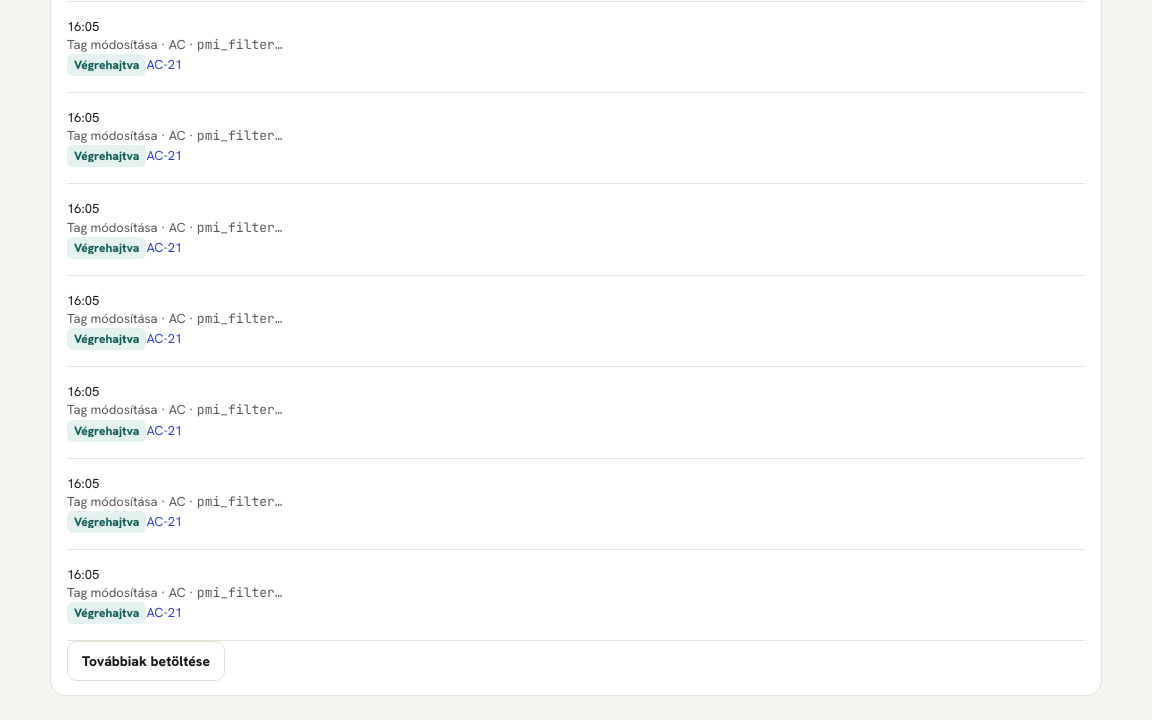
filters and paginates the audit by prefix without fetching involvements
The image size is (1152, 720).
(page scrolled)
What coordinates should you click on to do the following:
click the button "Továbbiak betöltése"
I would click on:
 (146, 661)
Its box is [67, 641, 225, 681].
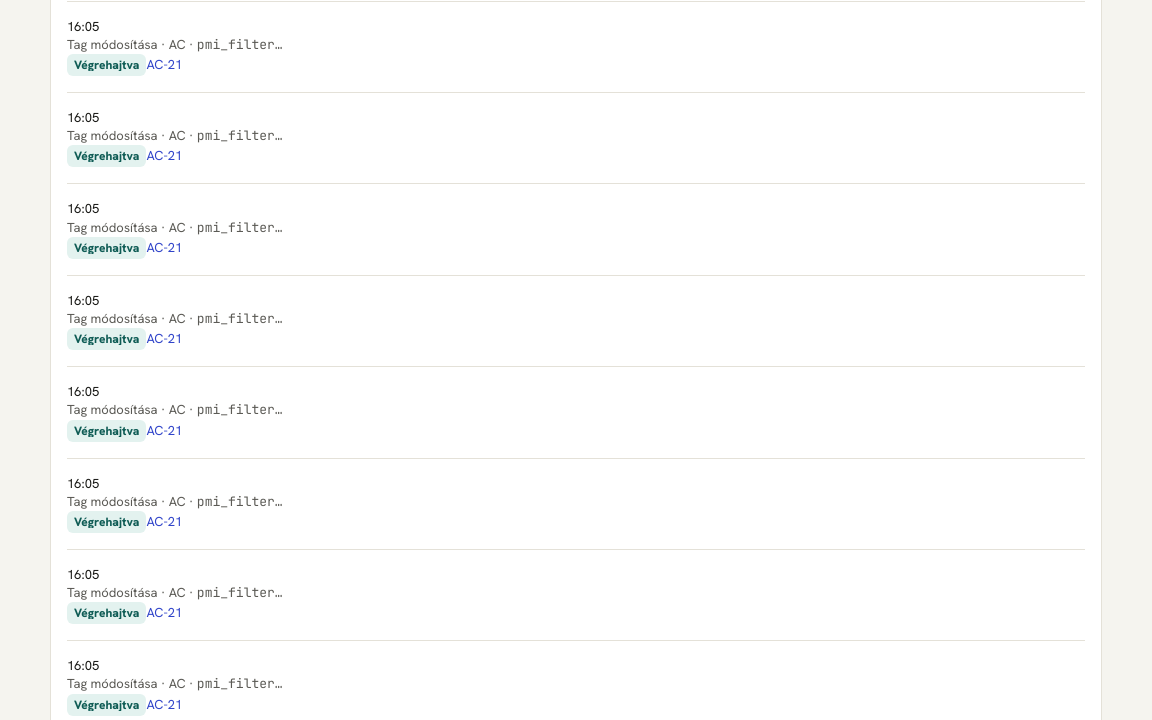
Now the button "Továbbiak betöltése" is gone
